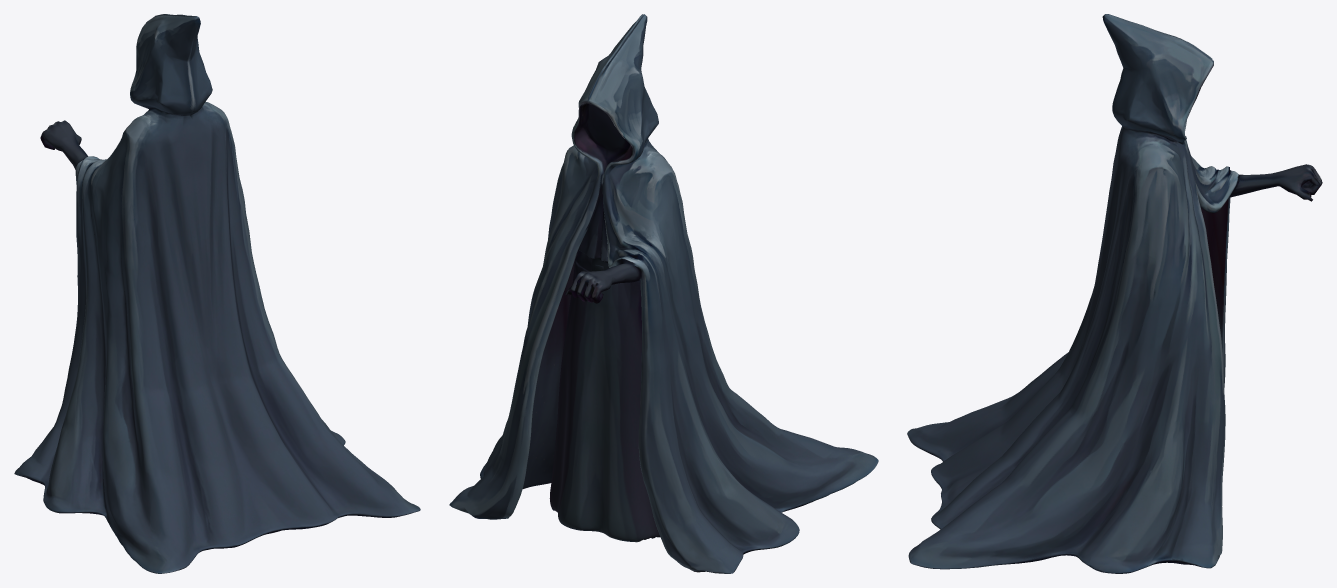
File: shepherd.glb
3 views of the same model, side by side, from view 1: azimuth 30°, elevation 25°; view 2: azimuth 150°, elevation 25°; view 3: azimuth 270°, elevation 25° (orthographic). The views are drawn at different scales.
Parts seen in each view (by area): view 1: tripo_node_a52f3c56-624d-4b00-b15a-ca57b8ce0ab4; view 2: tripo_node_a52f3c56-624d-4b00-b15a-ca57b8ce0ab4; view 3: tripo_node_a52f3c56-624d-4b00-b15a-ca57b8ce0ab4.
Boxes of the visible parts, x1,y1,x2,y2 form: tripo_node_a52f3c56-624d-4b00-b15a-ca57b8ce0ab4: [14, 14, 420, 573]; tripo_node_a52f3c56-624d-4b00-b15a-ca57b8ce0ab4: [449, 14, 878, 573]; tripo_node_a52f3c56-624d-4b00-b15a-ca57b8ce0ab4: [907, 14, 1322, 573].
Bounding box in the file's own units: 0.6454 × 0.9794 × 0.7556.
1 material, 1 textured.
